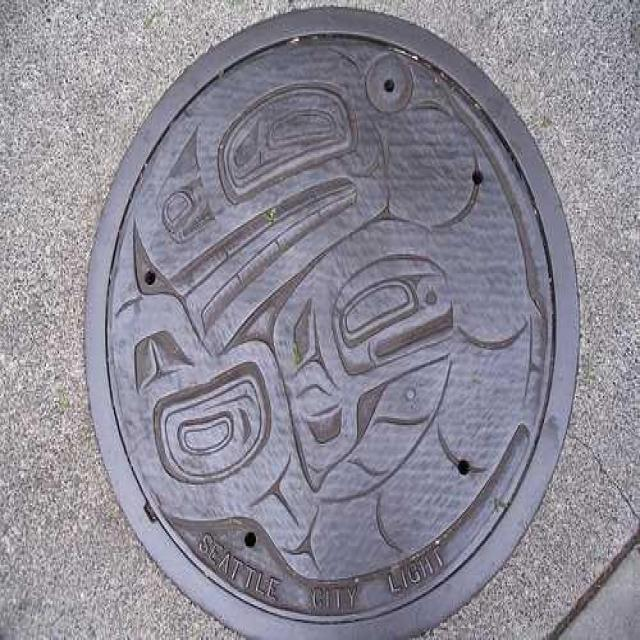manhole: (87, 9, 580, 640)
